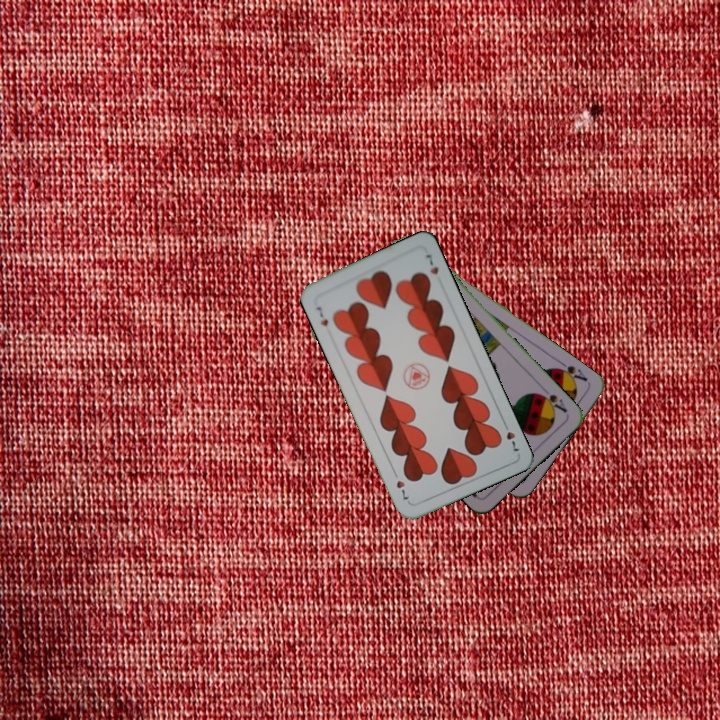H7: (499, 417, 522, 454), (312, 302, 331, 329)
SA: (552, 357, 590, 386), (534, 389, 570, 415)
